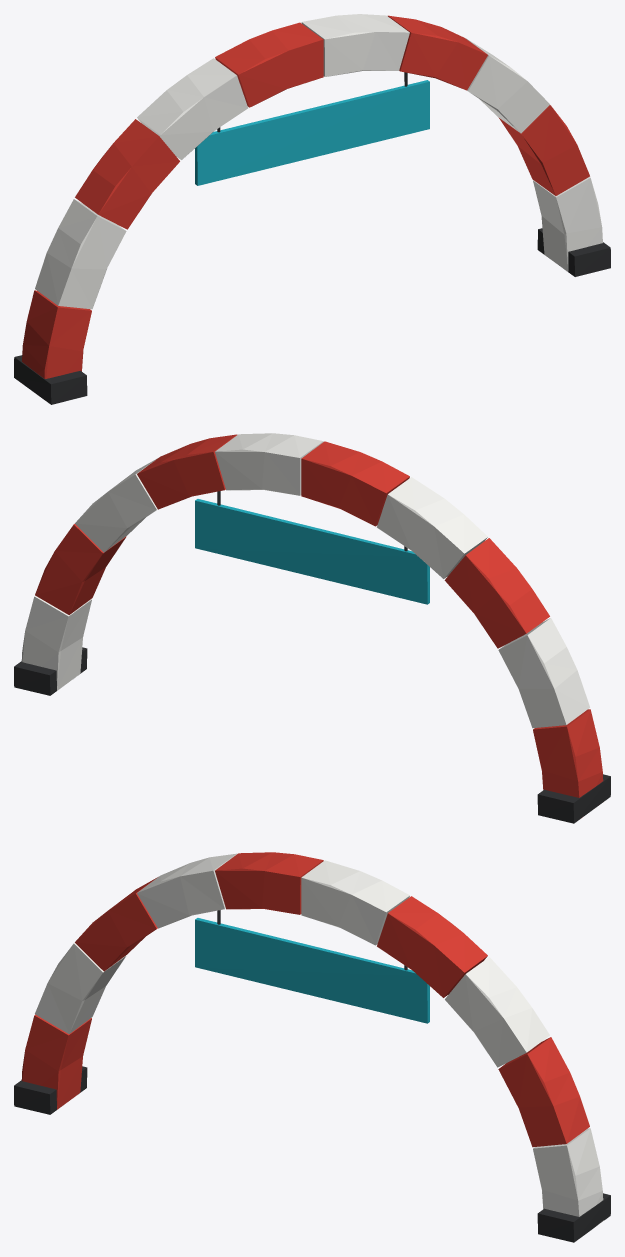
Rendered from checkpoint_arch_lod1.obj.
3 renders of one model, top to bottom at view 1: azimuth 30°, elevation 25°; view 2: azimuth 150°, elevation 25°; view 3: azimuth 330°, elevation 25°, orthographic.
Visible parts, largest first — view 1: checkpoint_arch_lod1; view 2: checkpoint_arch_lod1; view 3: checkpoint_arch_lod1.
Boxes of the visible parts, x1=… form: checkpoint_arch_lod1: x1=14, y1=14, x2=610, y2=404; checkpoint_arch_lod1: x1=14, y1=433, x2=610, y2=823; checkpoint_arch_lod1: x1=14, y1=852, x2=610, y2=1242.
Bounding box in the file's own units: 11.98 × 5.98 × 1.38.
